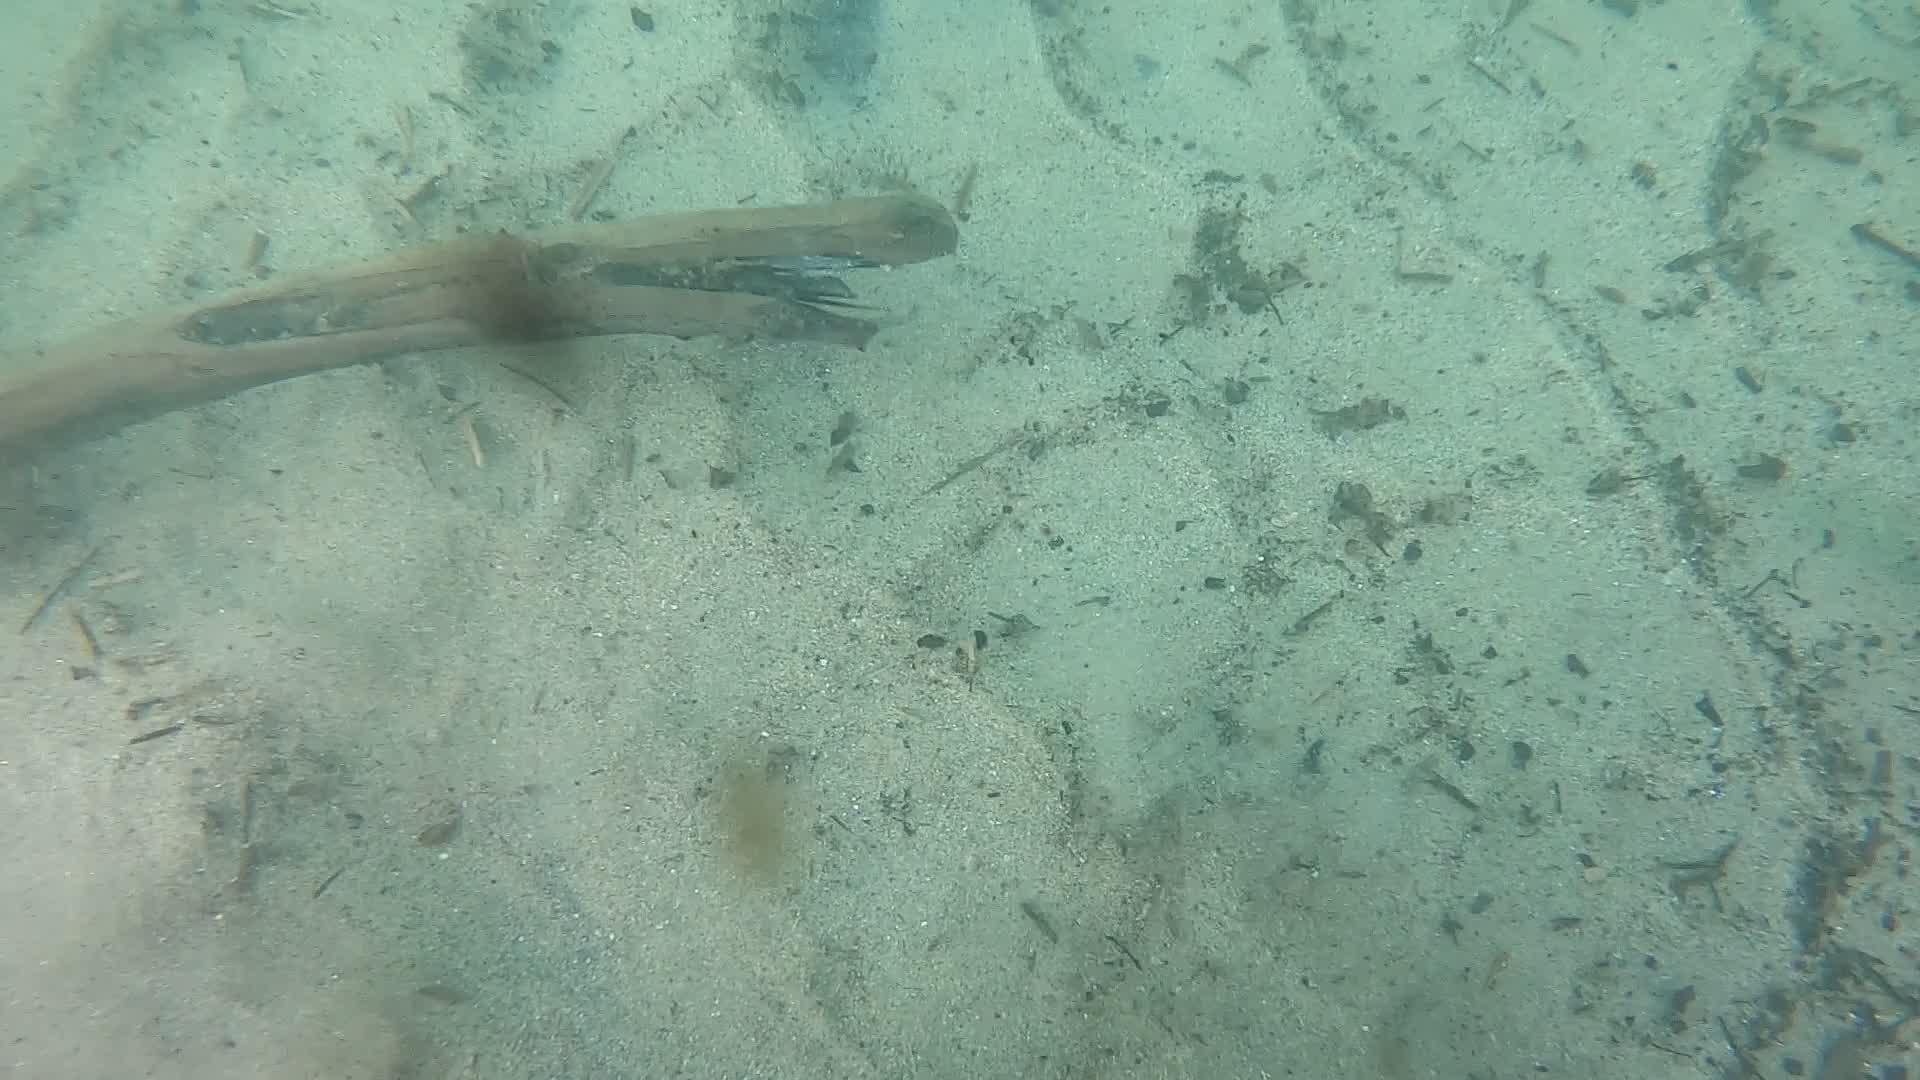wood: (0, 185, 961, 469)
